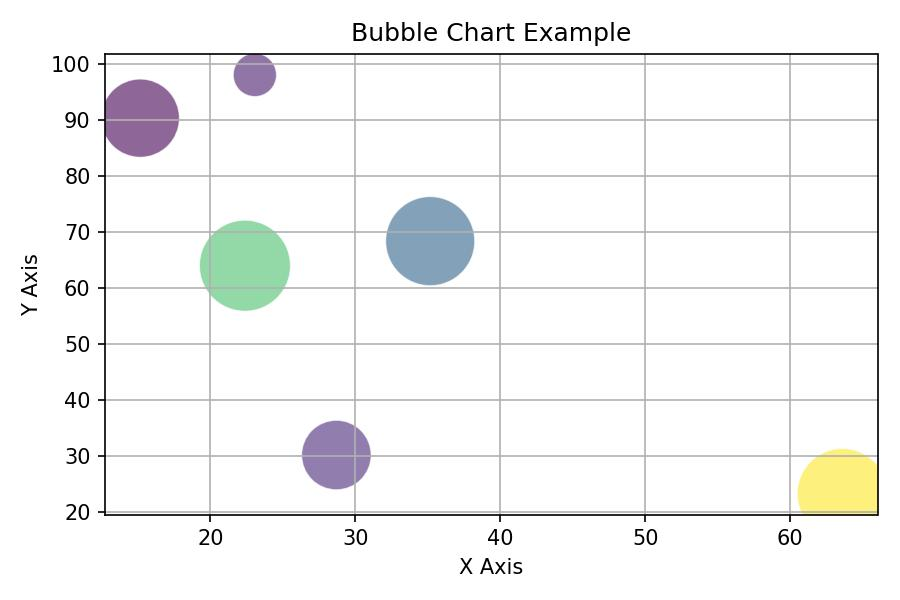axis: (93, 503, 884, 552), (51, 39, 115, 547)
circle: (384, 195, 478, 288), (199, 221, 291, 308), (104, 80, 179, 158), (800, 449, 879, 514), (304, 420, 373, 489), (233, 55, 278, 97)
